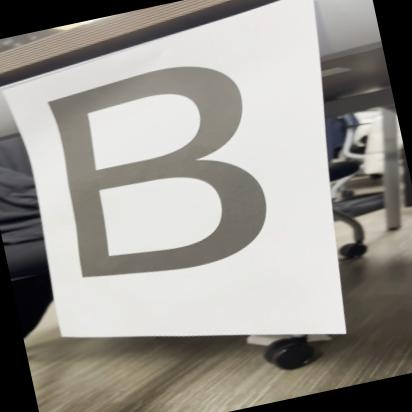seat: (31, 43, 296, 304)
